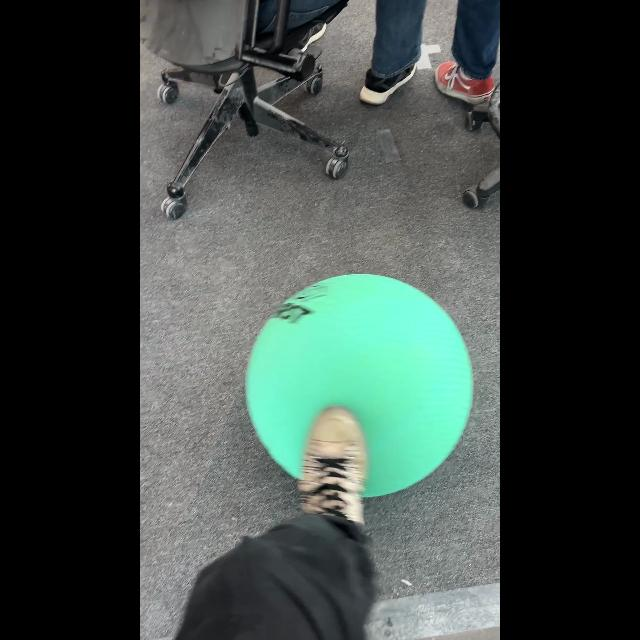ALGAE: (244, 272, 474, 498)
